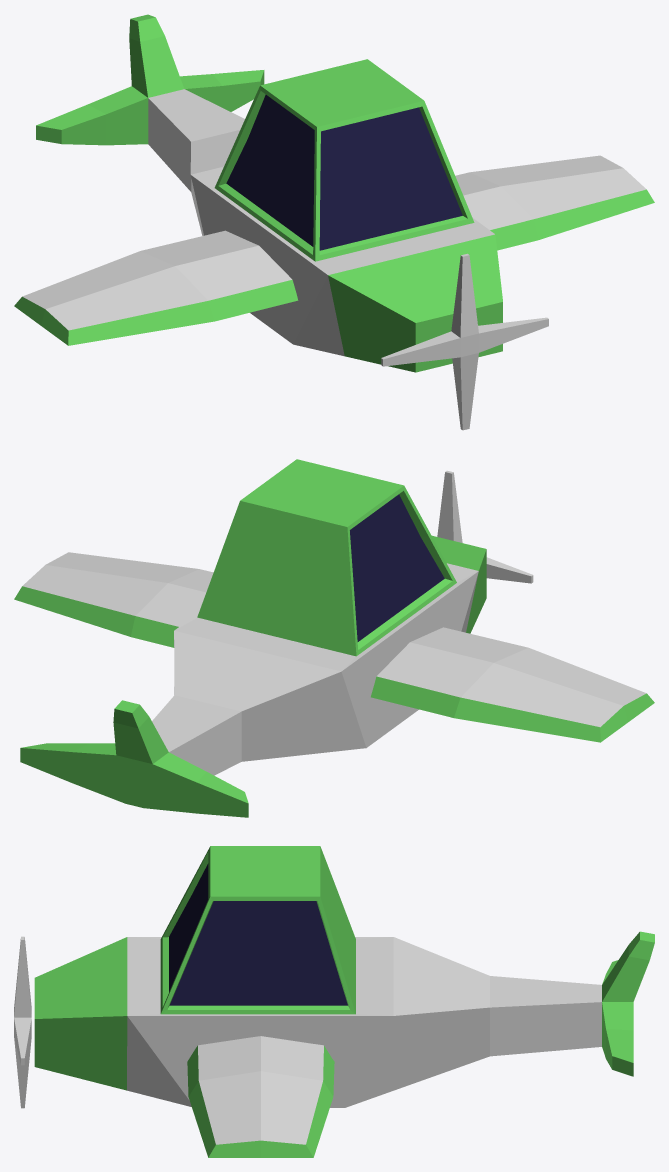
3 views of the same model, one above another, from view 1: azimuth 30°, elevation 25°; view 2: azimuth 150°, elevation 25°; view 3: azimuth 270°, elevation 25° (orthographic). The views are drawn at different scales.
Parts seen in each view (by area): view 1: Cube.002; view 2: Cube.002; view 3: Cube.002.
Boxes of the visible parts, left/top/right/bottom form: Cube.002: left=14, top=14, right=654, bottom=430; Cube.002: left=14, top=459, right=654, bottom=817; Cube.002: left=14, top=846, right=654, bottom=1157.
Bounding box in the file's own units: 452 × 179 × 441.
